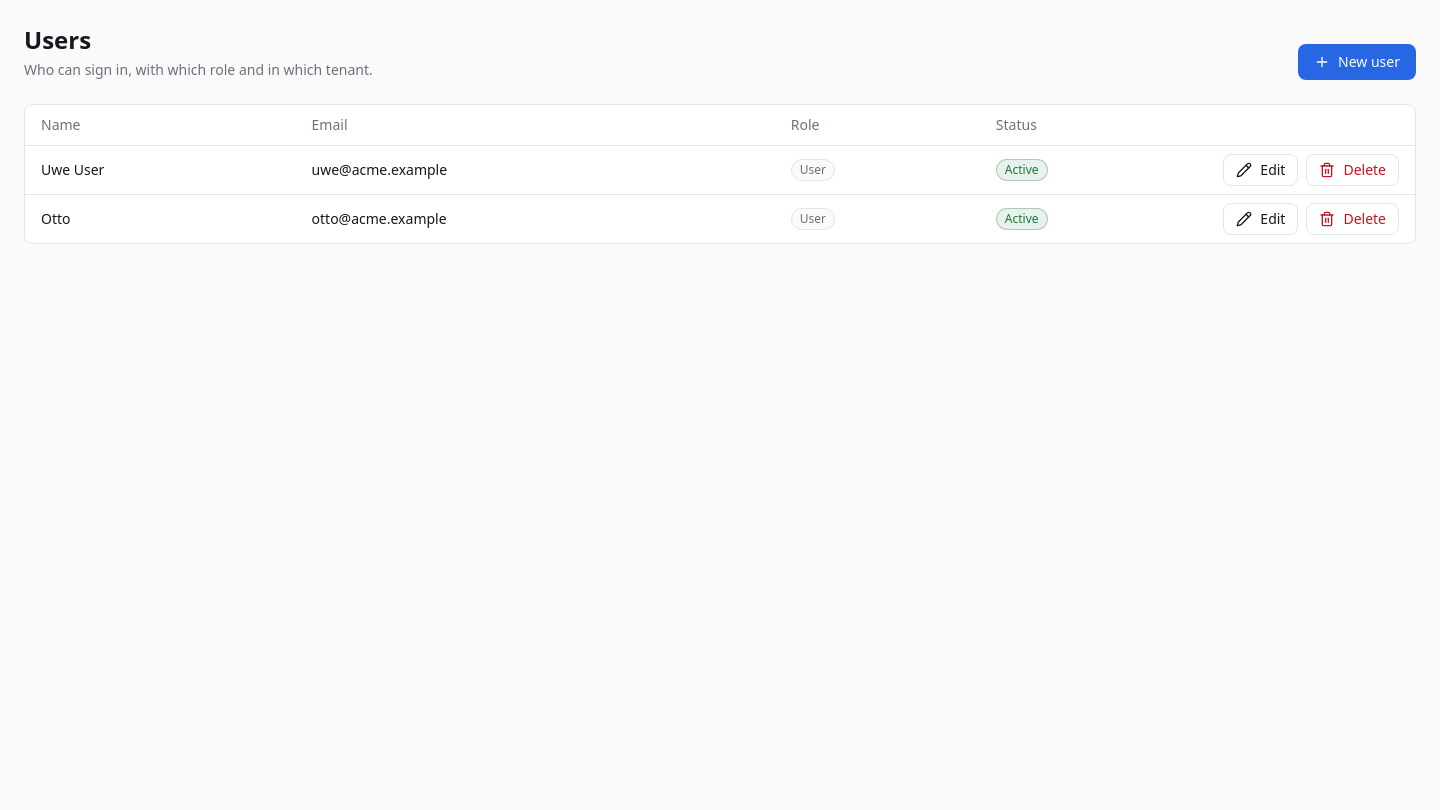
Test: UsersPage › deletes a user, showing errors in the confirm dialog and starting fresh for the next one
Click the button "Delete" in the row of "Otto".
click(1353, 219)  # box [1306,203,1399,235]
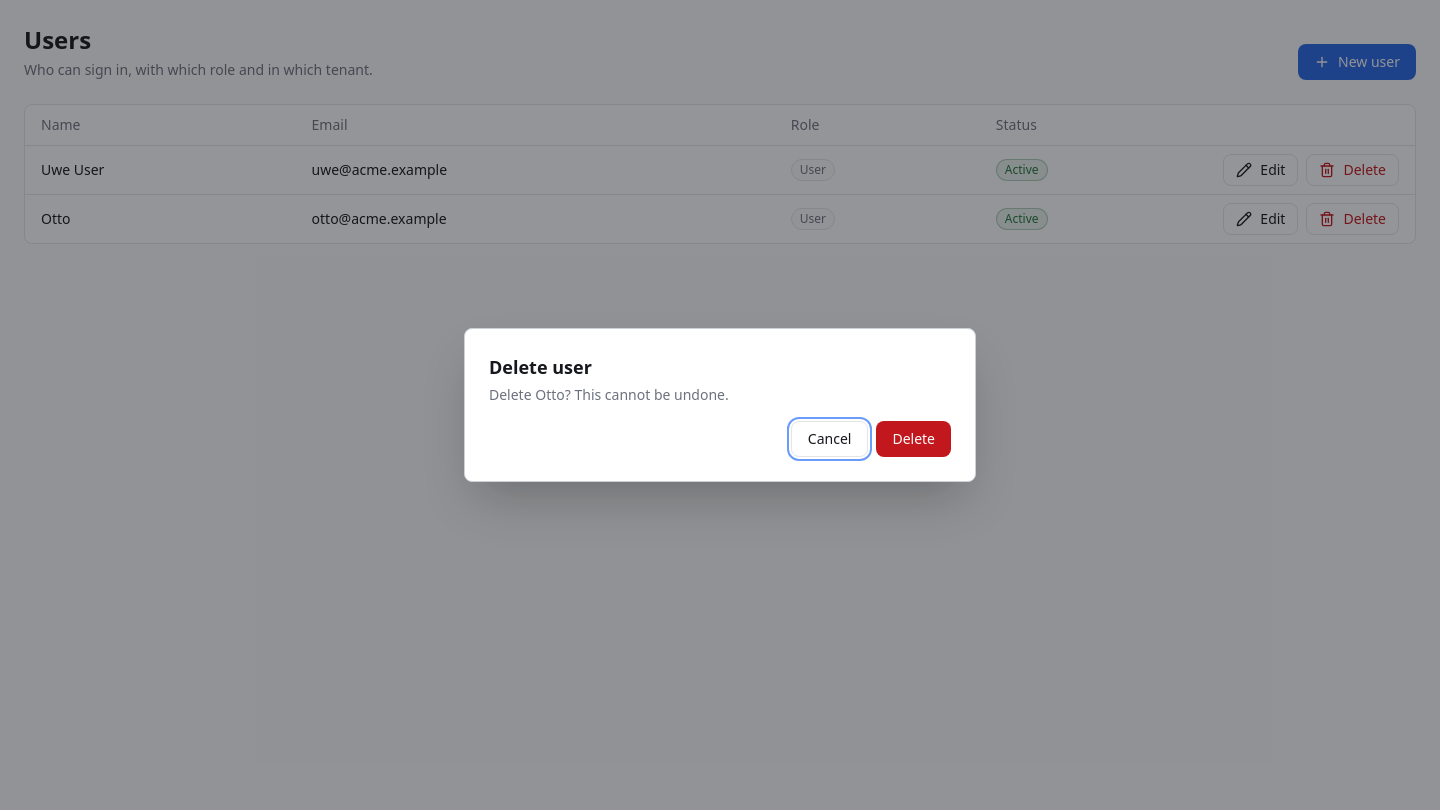
Click the button "Delete".
click(914, 439)  # box [876,421,951,457]
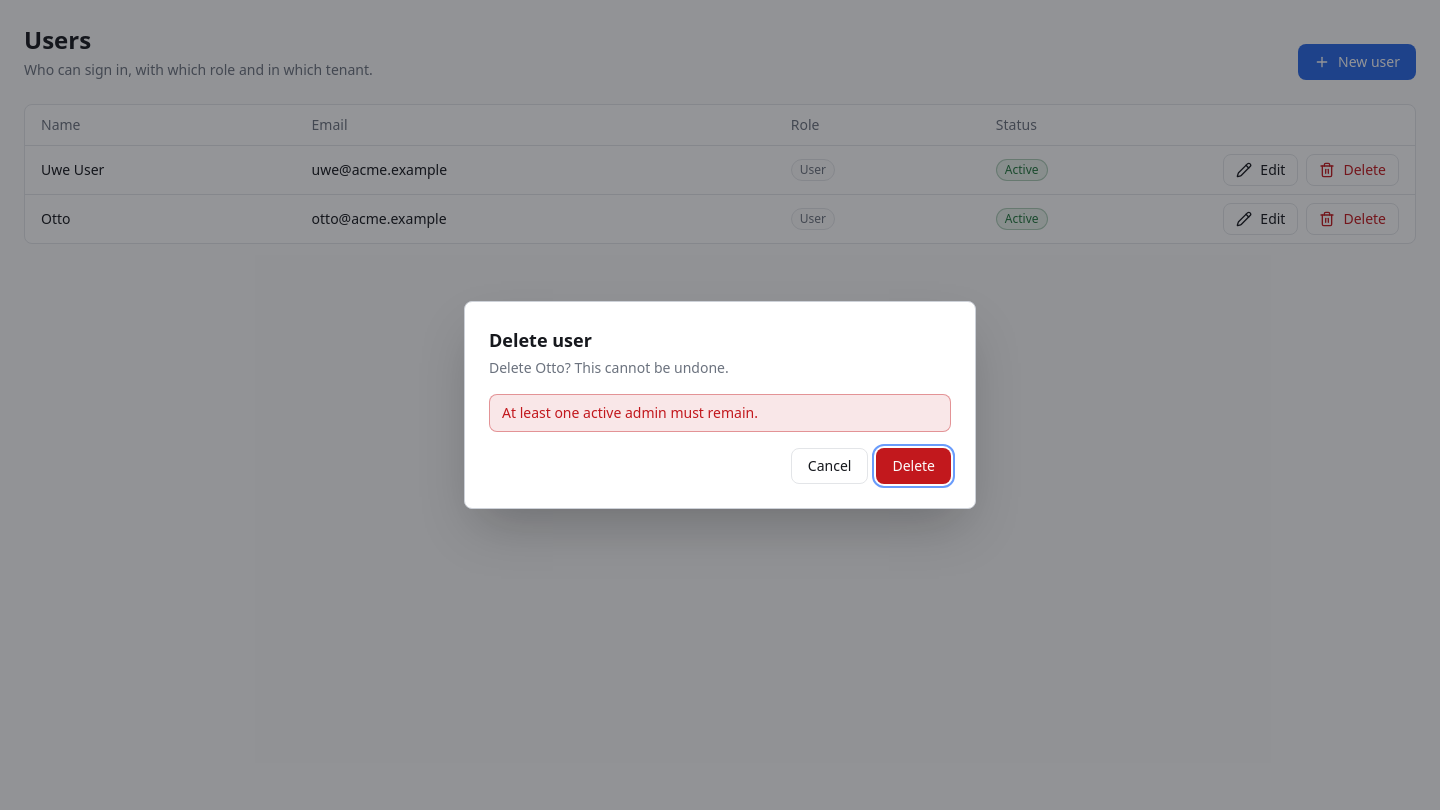
Now the message reads "At least one active admin must remain.", box [502,403,758,422]
Click the button "Cancel".
click(830, 466)  # box [791,448,868,484]
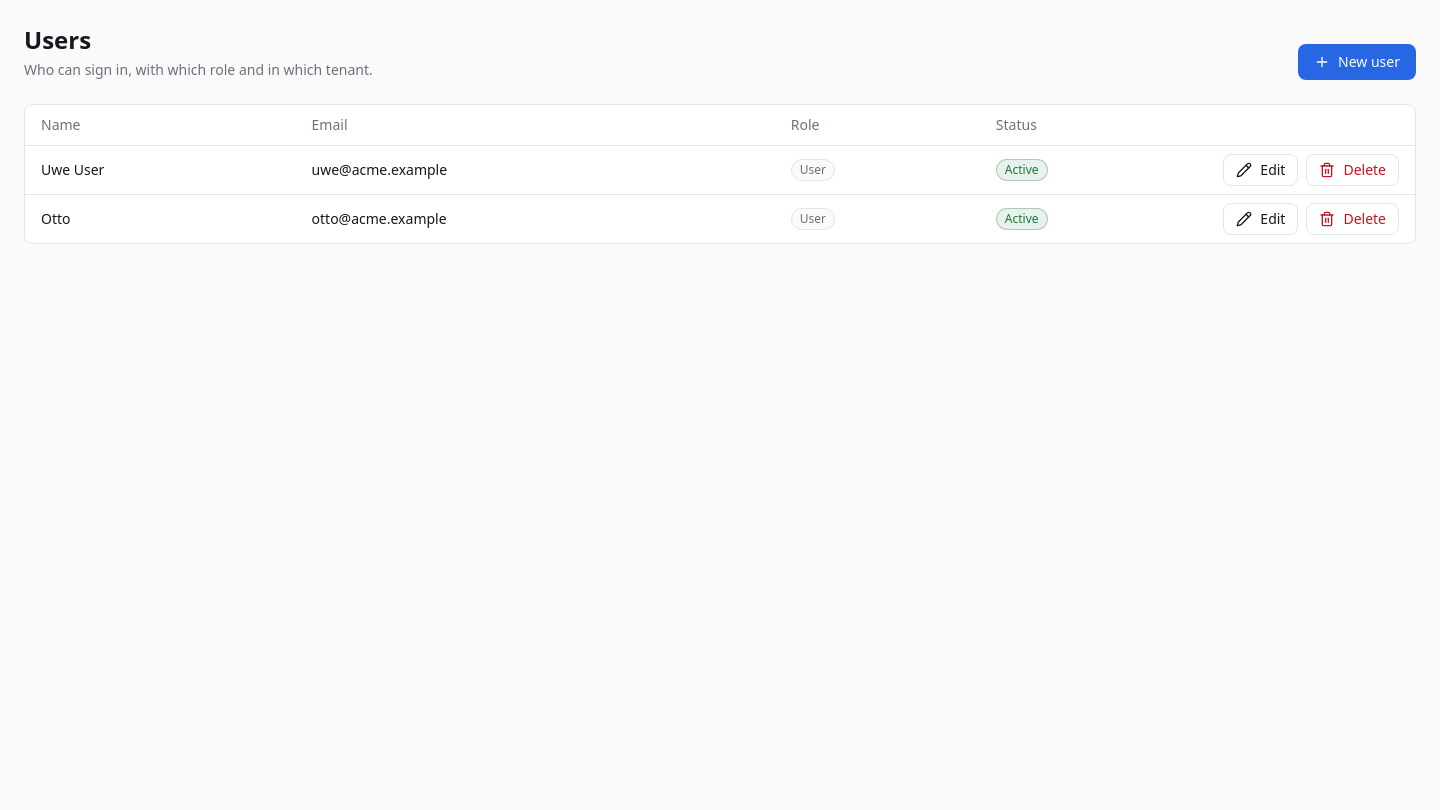
Now the dialog is gone
Click the button "Delete" in the row of "Uwe User".
click(1353, 170)  # box [1306,154,1399,186]
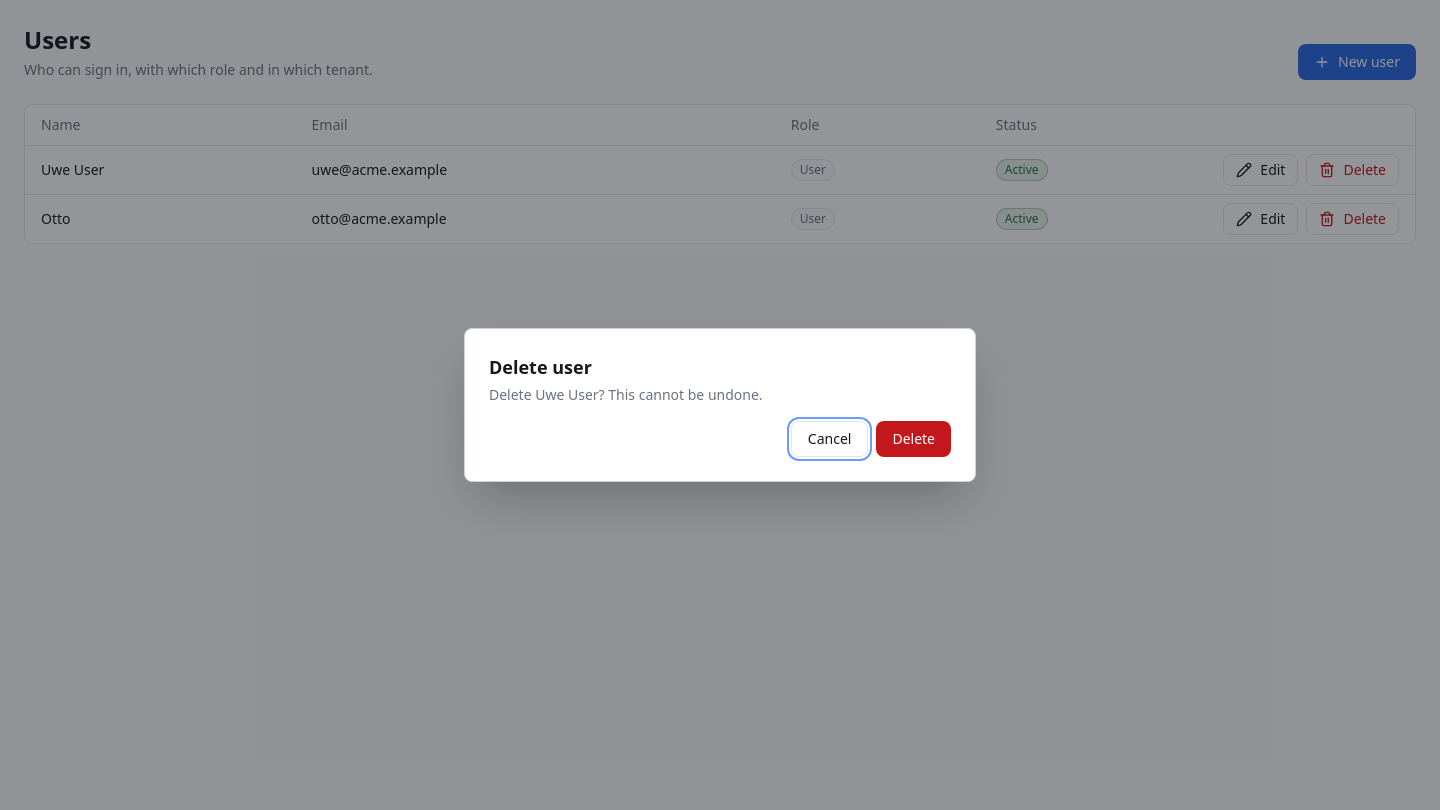
Expected: the message "At least one active admin must remain." is not shown
Click the button "Delete".
click(914, 439)  # box [876,421,951,457]
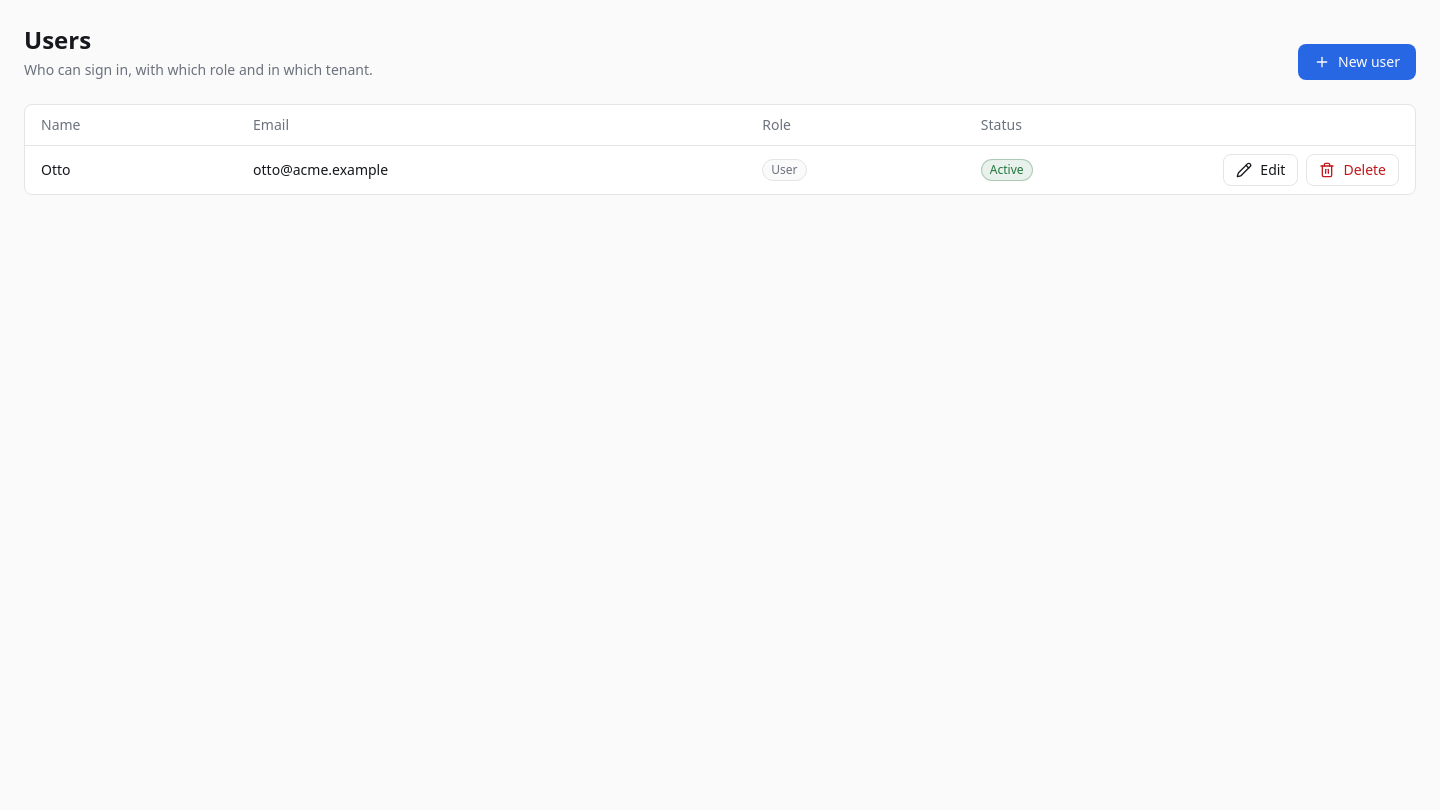
Now the dialog is gone
